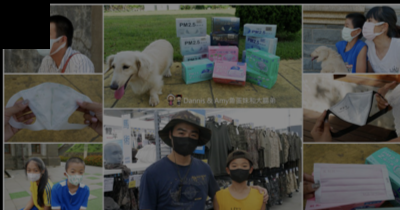with_mask: (170, 127, 199, 157), (34, 28, 59, 57), (229, 160, 250, 184), (362, 18, 381, 40), (66, 167, 84, 186), (341, 22, 356, 42), (25, 165, 40, 182)
